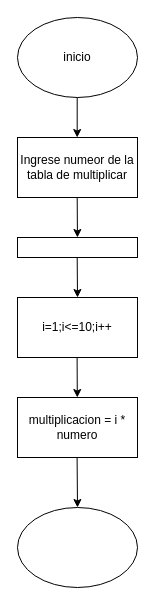
Some shapes in this 155 by 605 pixel diagram are drawn without their labels. Here are the shapes that lost their labels. From the top down, the centre of each, then its label:
the point at 77,247: Leo numero
the point at 77,547: fin
